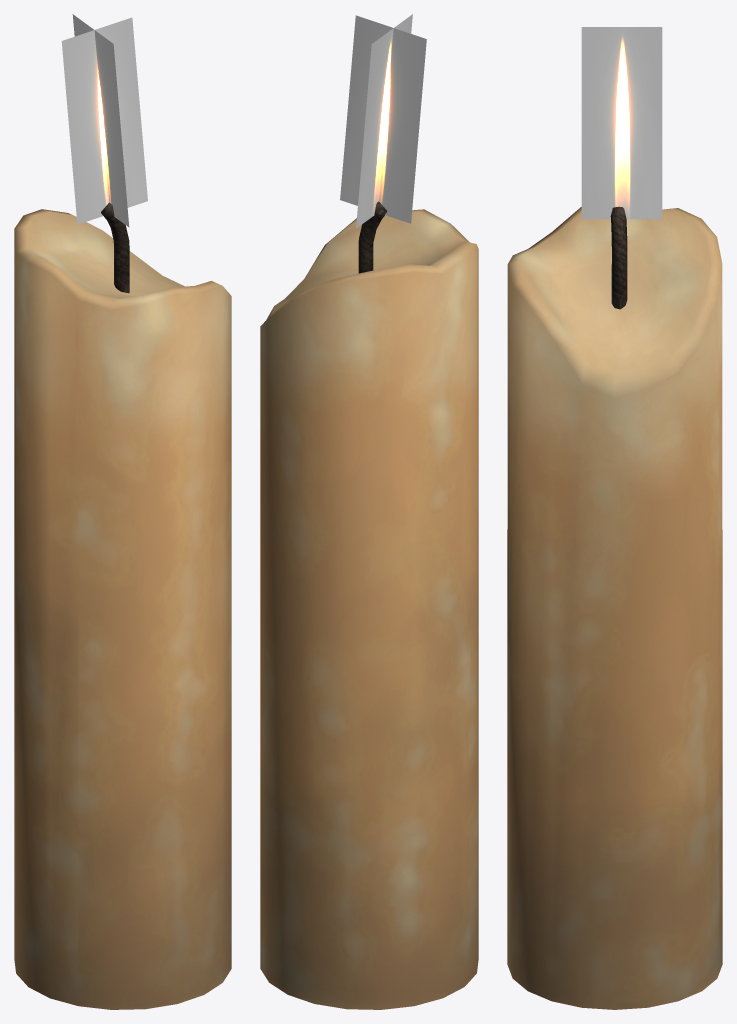
The model's file is SM_candle_01.fbx.
The picture shows the model from 3 angles, left to right: view 1: azimuth 30°, elevation 25°; view 2: azimuth 150°, elevation 25°; view 3: azimuth 270°, elevation 25°; orthographic projection. The views are drawn at different scales.
Visible parts, largest first — view 1: SM_candle_01_LOD0; view 2: SM_candle_01_LOD0; view 3: SM_candle_01_LOD0.
Boxes of the visible parts, <box> form: SM_candle_01_LOD0: <box>14,14,231,1009</box>; SM_candle_01_LOD0: <box>260,14,478,1009</box>; SM_candle_01_LOD0: <box>507,27,722,1009</box>.
Size of the model in its own units: 5.64 by 5.65 by 26.87.
Materials: 2 (1 with a texture image).
